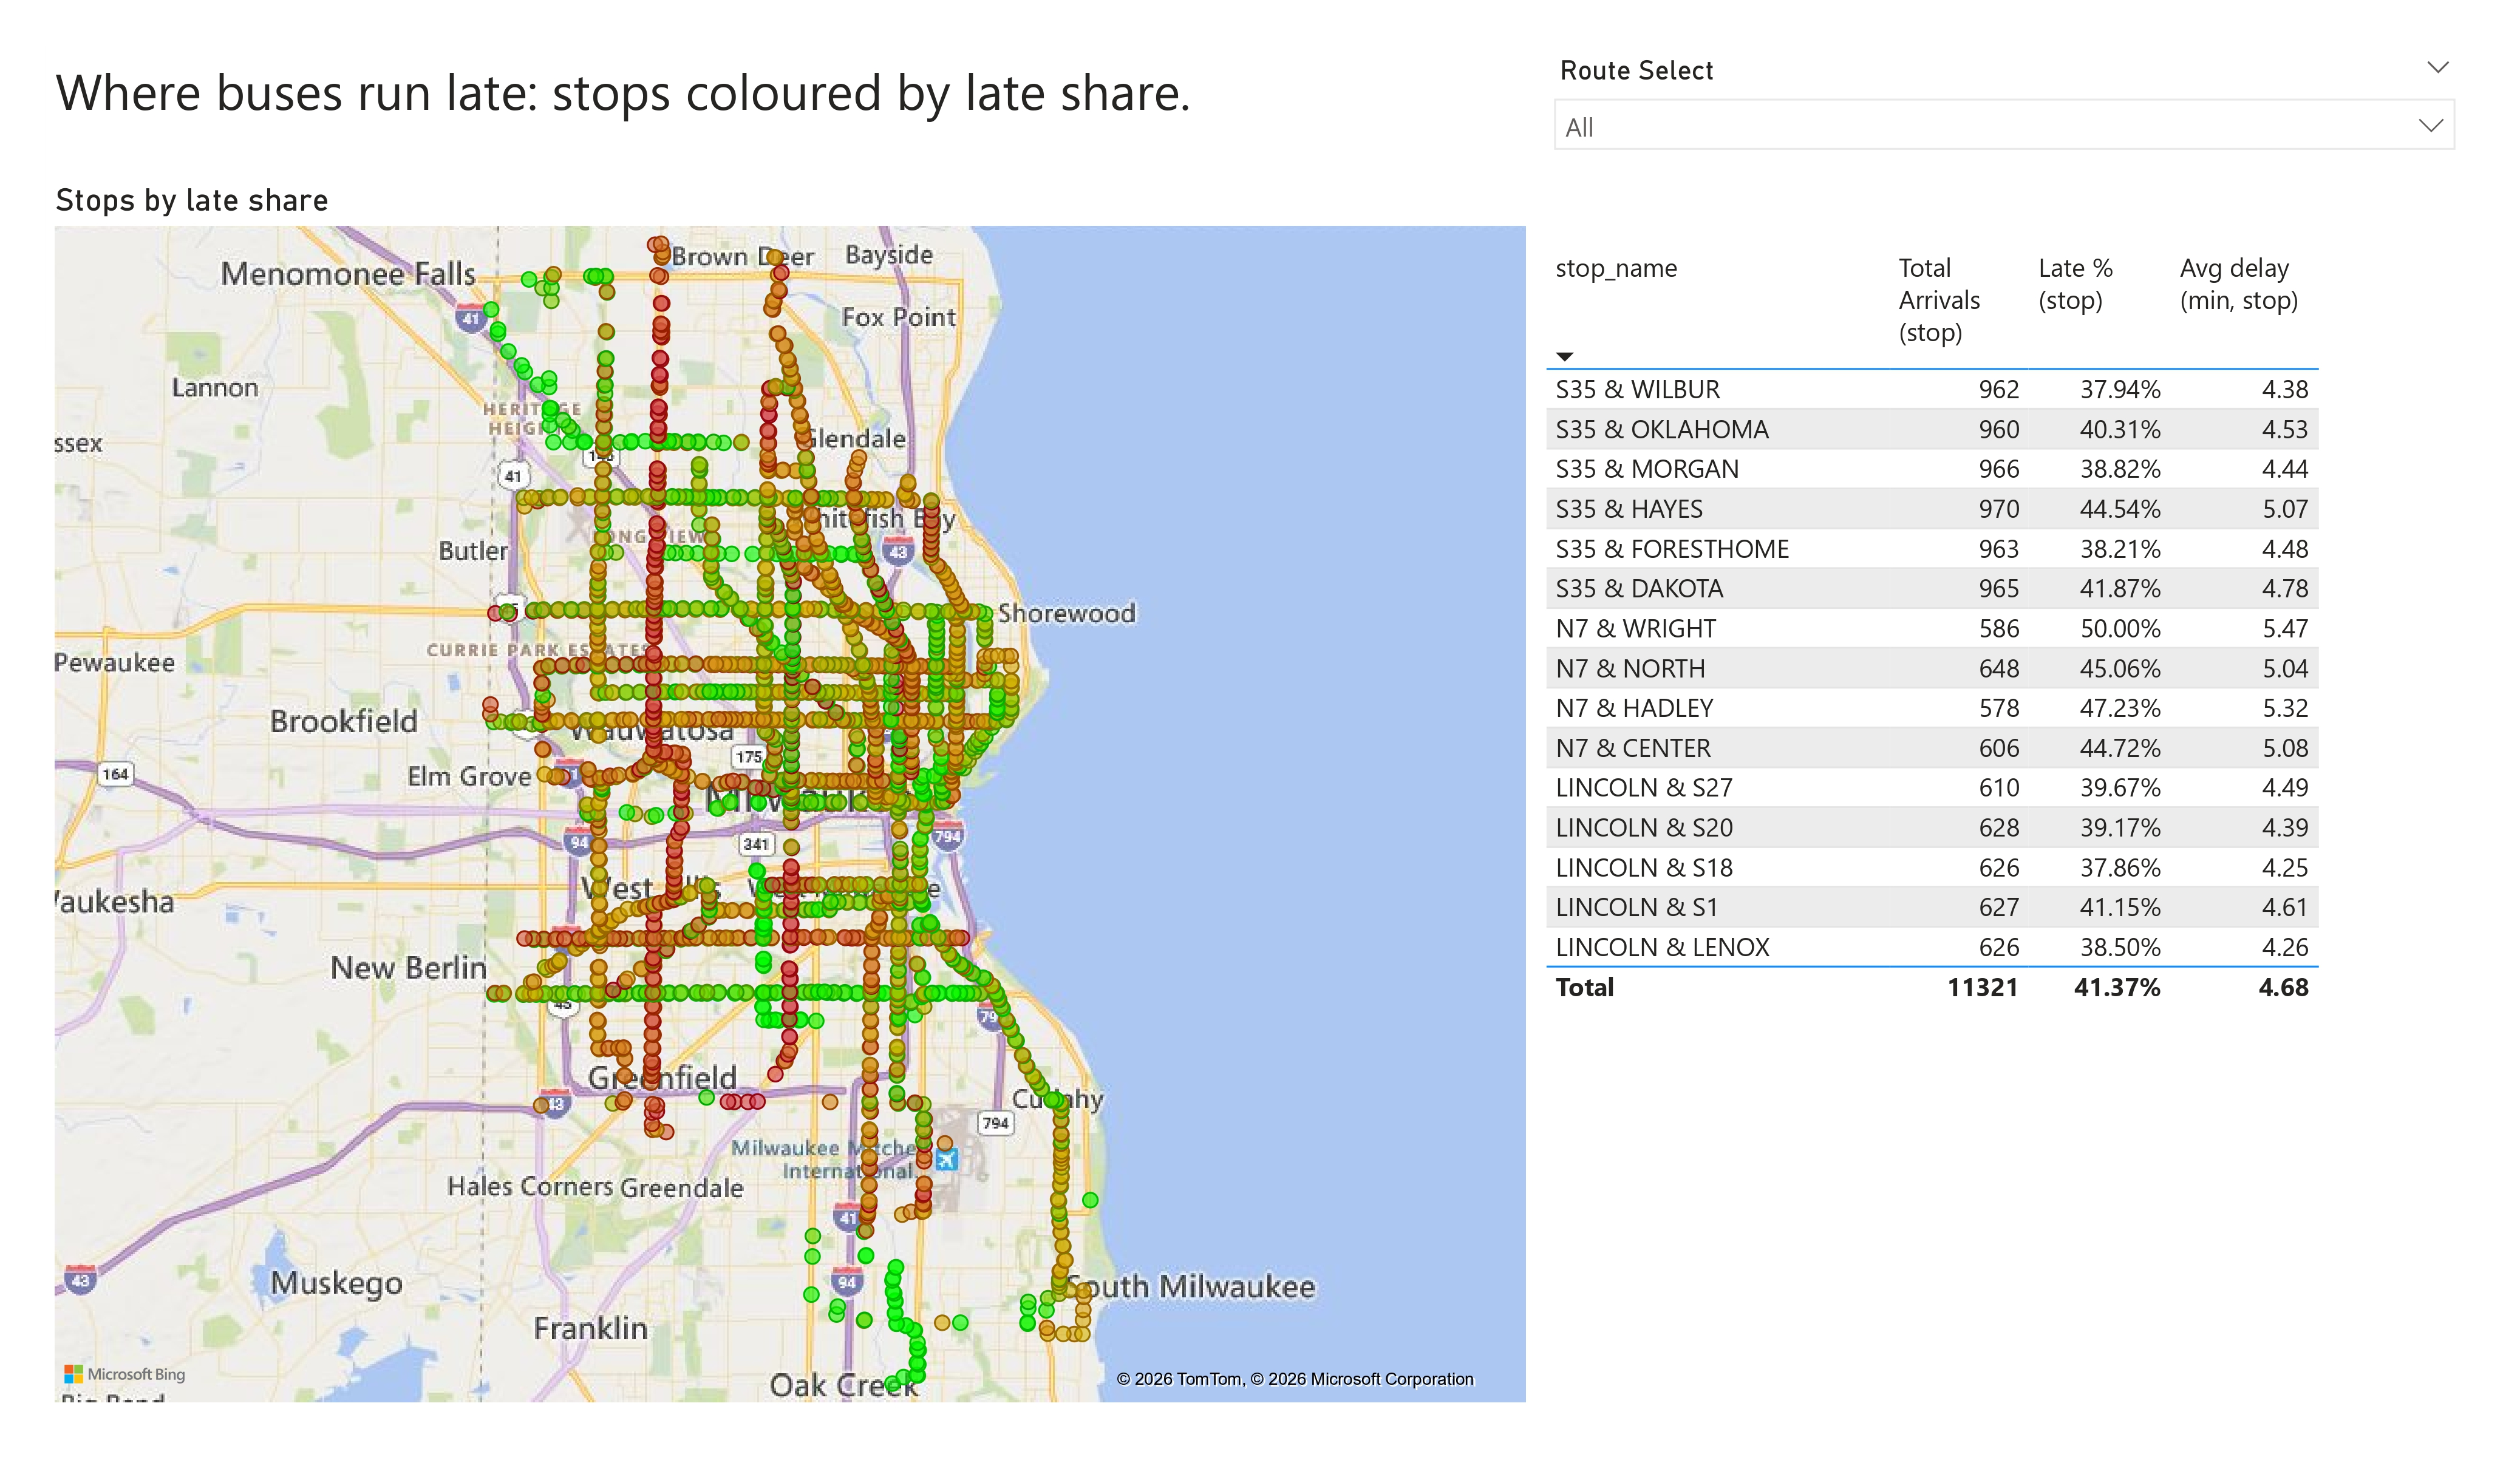

What the dashboard file says about the page in this screenshot:
{"tool":"powerbi","page":{"name":"Stops","canvas":[1280,720],"ordinal":3},"visuals":[{"type":"map","title":"Stops by late share","fields":{"Y":["dim_stop.latitude"],"X":["dim_stop.longitude"]},"box":[0,71.4,784.9,649.1],"z":0},{"type":"tableEx","fields":{"Values":["dim_stop.stop_name","_Measures.Total Arrivals (stop)","_Measures.Late % (stop)","_Measures.Avg delay (min, stop)"]},"box":[785,102,453,618],"z":1000},{"type":"textbox","box":[0,0,684.7,48],"z":2000},{"type":"slicer","fields":{"Values":["dim_route.route_label"]},"box":[784.9,0,495.4,71.4],"z":3000}]}

Visuals, with their boxes on the page's 1280x720 design canvas (x1, y1, x2, y2). These are canvas units, not pixel positions in the 2520x1457 screenshot, which may show the page scaled, cropped or inside an application window:
"Stops by late share" map: [left=0, top=71, right=785, bottom=720]
tableEx - dim_stop.stop_name x _Measures.Total Arrivals (stop): [left=785, top=102, right=1238, bottom=720]
textbox: [left=0, top=0, right=685, bottom=48]
slicer - dim_route.route_label: [left=785, top=0, right=1280, bottom=71]
